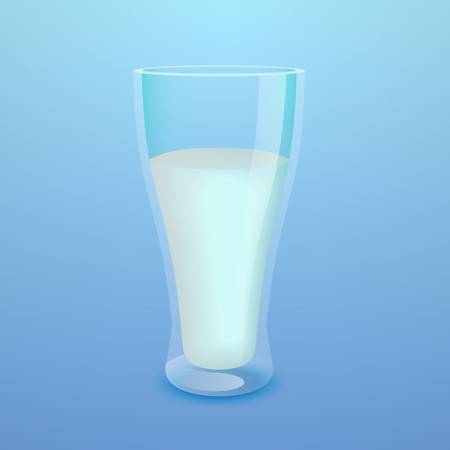glass of milk: (131, 58, 310, 393)
